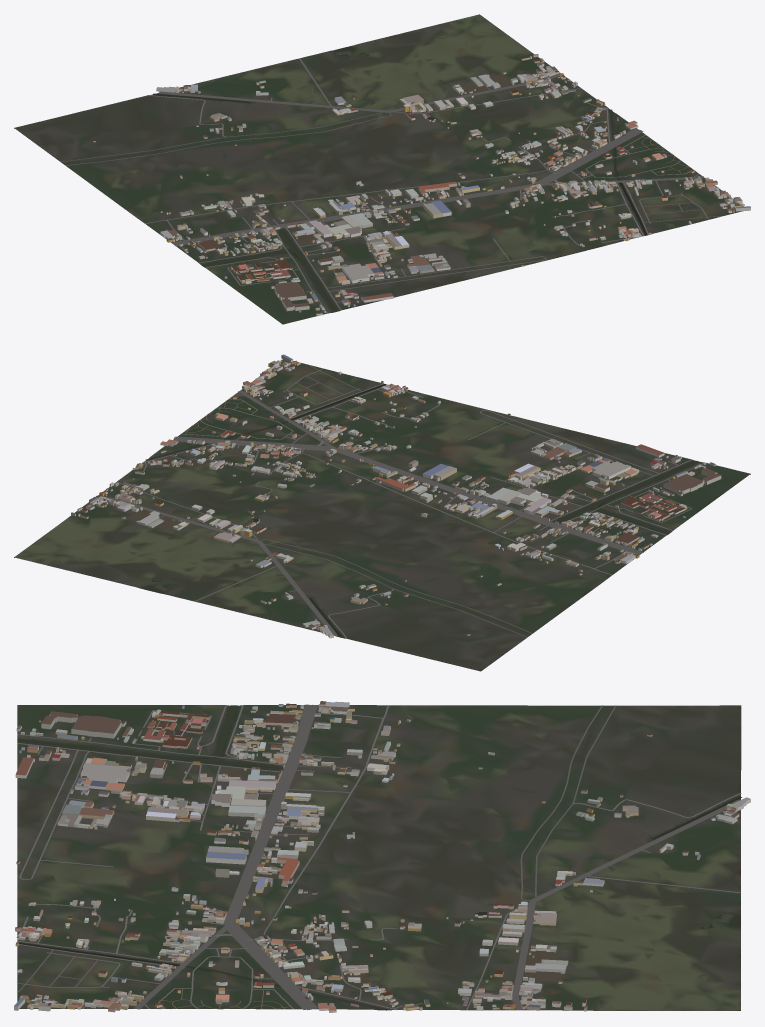
3 views of the same model, one above another, from view 1: azimuth 30°, elevation 25°; view 2: azimuth 150°, elevation 25°; view 3: azimuth 270°, elevation 25° (orthographic). The views are drawn at different scales.
Visible parts, largest first — view 1: ground, buildings, roads, water; view 2: ground, buildings, roads, water; view 3: ground, buildings, roads, water.
Boxes of the visible parts, box(x1,y1,x2,y2) form: ground: box(14, 14, 743, 324); buildings: box(93, 54, 750, 315); roads: box(60, 58, 722, 313); water: box(153, 46, 647, 312); ground: box(14, 359, 750, 671); buildings: box(71, 354, 721, 638); roads: box(98, 365, 705, 638); water: box(143, 384, 699, 637); ground: box(17, 705, 741, 1010); buildings: box(14, 701, 750, 1012); roads: box(16, 704, 741, 1010); water: box(17, 705, 741, 1010).
Bounding box in the file's own units: 1420 × 19.93 × 1426.
